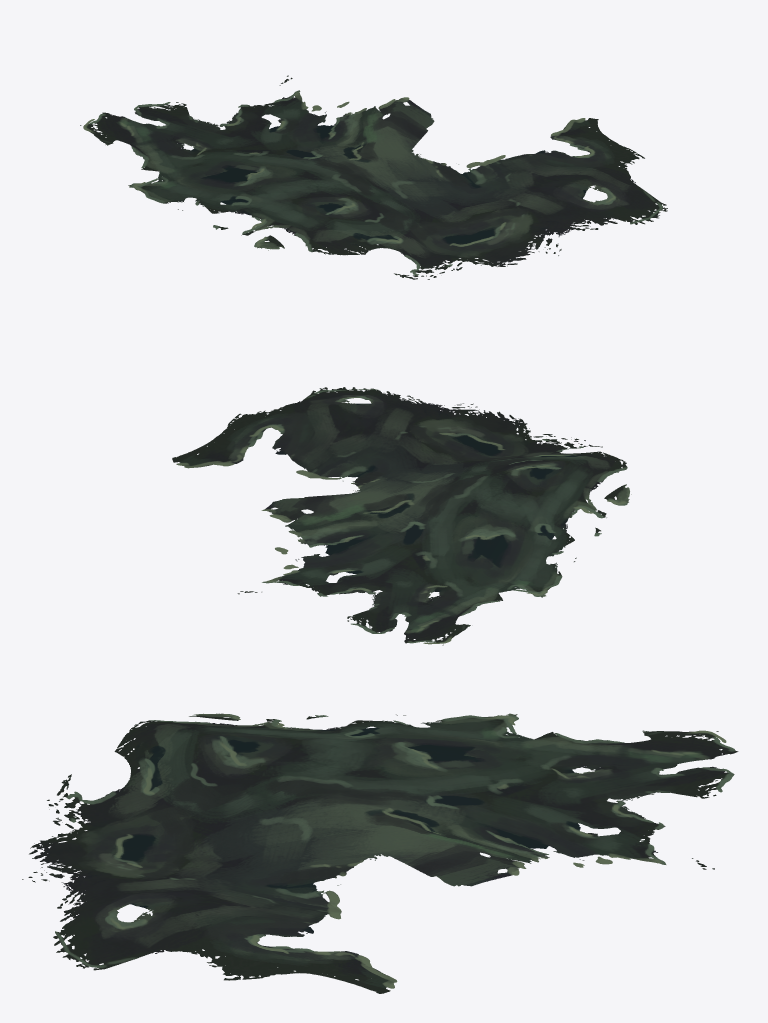
The model's file is algae1.fbx.
The picture shows the model from 3 angles, top to bottom: view 1: azimuth 30°, elevation 25°; view 2: azimuth 150°, elevation 25°; view 3: azimuth 270°, elevation 25°; orthographic projection. The views are drawn at different scales.
Parts seen in each view (by area): view 1: algae1.001; view 2: algae1.001; view 3: algae1.001.
Boxes of the visible parts, x1,y1,x2,y2 form: algae1.001: (80, 75, 667, 279); algae1.001: (172, 387, 631, 645); algae1.001: (22, 713, 738, 993).
Size of the model in its own units: 285 by 17.28 by 285.
